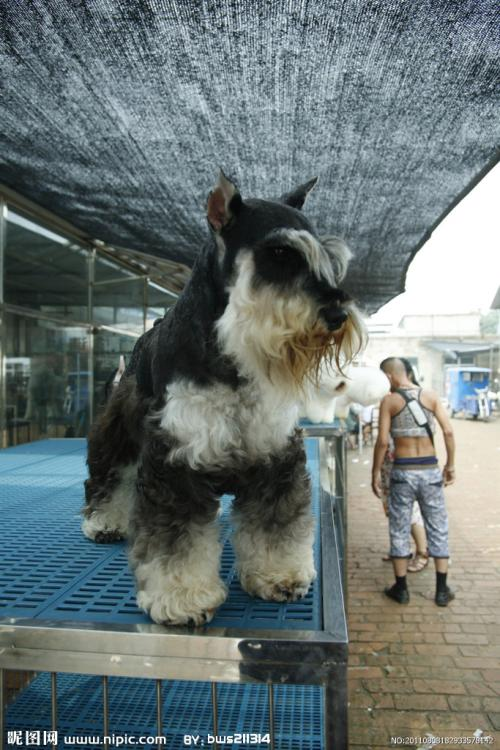dog: (188, 178, 380, 420)
